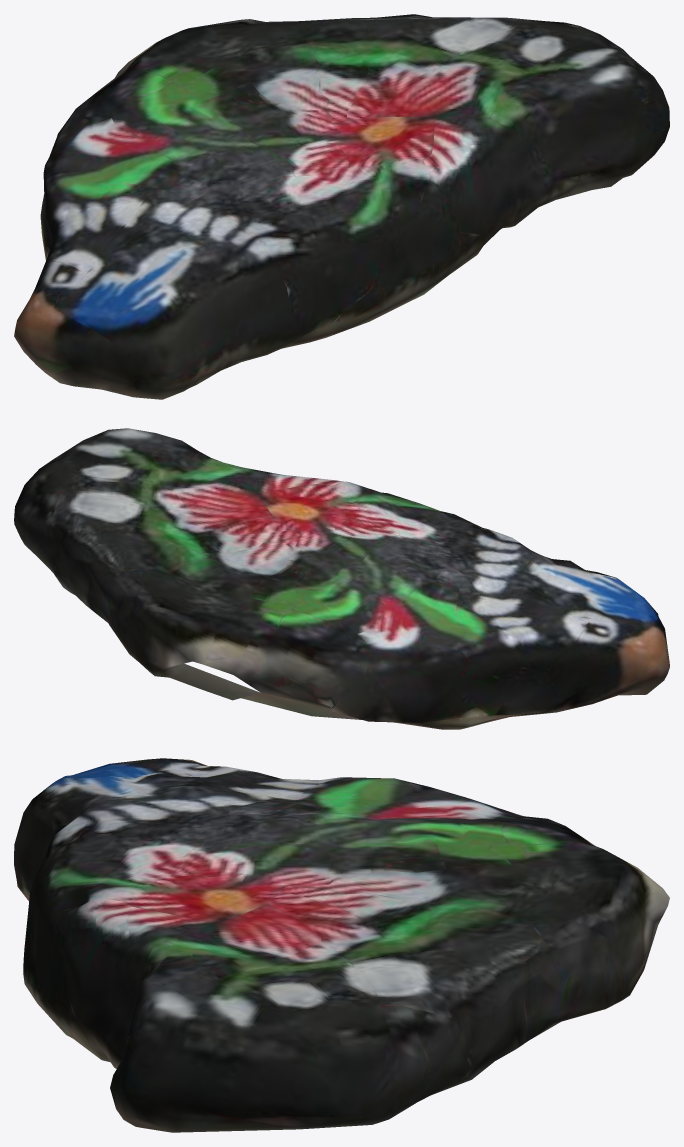
Rendered from hall.glb.
The picture shows the model from 3 angles, top to bottom: view 1: azimuth 30°, elevation 25°; view 2: azimuth 150°, elevation 25°; view 3: azimuth 270°, elevation 25°; orthographic projection. The views are drawn at different scales.
Bounding box in the file's own units: 0.6943 × 0.1719 × 0.4613.
1 material, 1 textured.
